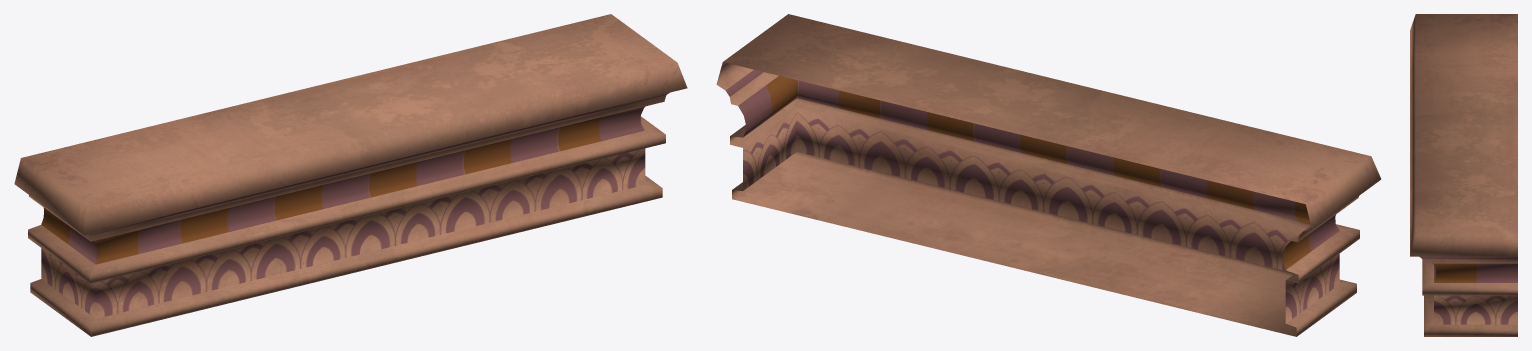
File: temple_up1 1.fbx
3 renders of one model, left to right at view 1: azimuth 30°, elevation 25°; view 2: azimuth 150°, elevation 25°; view 3: azimuth 270°, elevation 25°, orthographic. The views are drawn at different scales.
Visible parts, largest first — view 1: temple1, Object025, Object029, Object028, Object027, Object026; view 2: Object025, temple1, Object027, Object029, Object028, Object026; view 3: Object025, temple1, Object027, Object029, Object028, Object026.
Boxes of the visible parts, box(x1,y1,x2,y2) form: temple1: box(14, 132, 196, 336); Object025: box(505, 14, 687, 220); Object029: box(127, 109, 291, 313); Object028: box(222, 86, 385, 289); Object027: box(316, 63, 480, 266); Object026: box(411, 40, 574, 243); Object025: box(716, 14, 892, 222); temple1: box(1201, 130, 1381, 336); Object027: box(921, 62, 1079, 267); Object029: box(1108, 108, 1265, 313); Object028: box(1014, 85, 1172, 290); Object026: box(828, 39, 985, 245); Object025: box(1410, 195, 1517, 336); temple1: box(1410, 14, 1517, 72); Object027: box(1410, 124, 1517, 178); Object029: box(1410, 54, 1517, 107); Object028: box(1410, 89, 1517, 142); Object026: box(1410, 160, 1517, 213).
Bounding box in the file's own units: 40032 × 8664 × 8056.
